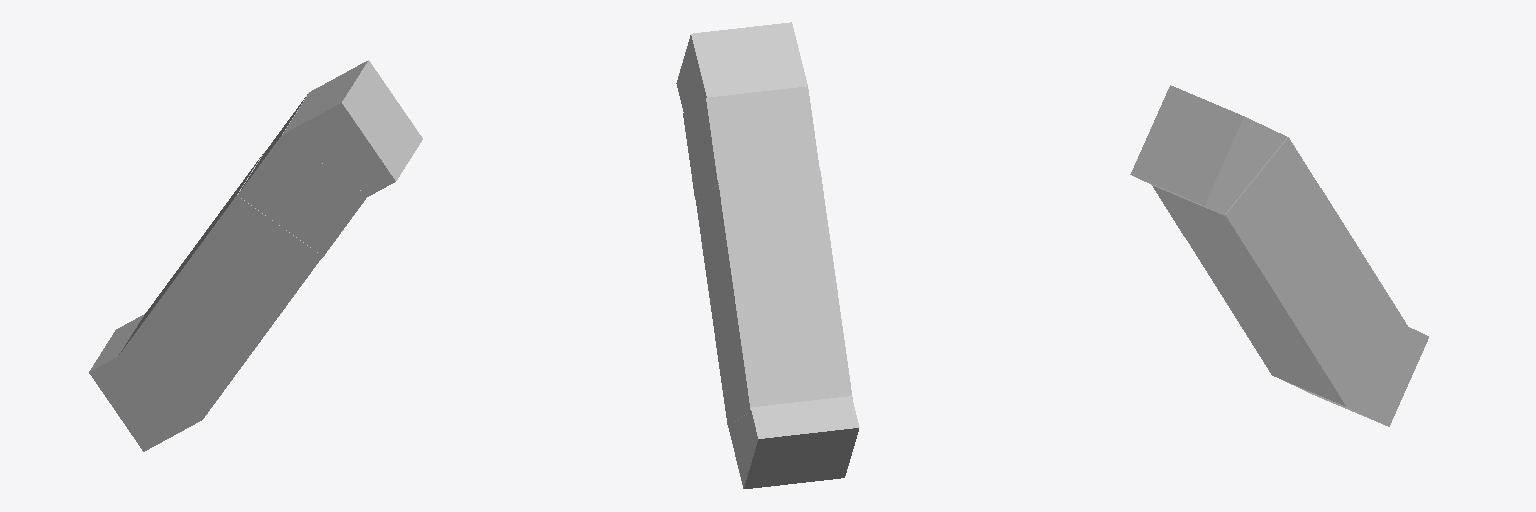
Rendered from thick_diagonal_oak_branch_67_45_a.obj.
The picture shows the model from 3 angles: view 1: azimuth 30°, elevation 25°; view 2: azimuth 150°, elevation 25°; view 3: azimuth 270°, elevation 25°; orthographic projection.
Parts seen in each view (by area): view 1: halfbeam, halfbeam.000, halfbeam.002, halfbeam.001; view 2: halfbeam, halfbeam.002, halfbeam.001, halfbeam.000; view 3: halfbeam, halfbeam.000, halfbeam.002, halfbeam.001.
Part boxes in pixels (x1,y1,x2,y2): halfbeam: (116,152,322,419); halfbeam.000: (283,60,422,196); halfbeam.002: (237,93,367,257); halfbeam.001: (89,314,201,451); halfbeam: (696,171,852,425); halfbeam.002: (683,86,819,199); halfbeam.001: (728,396,859,488); halfbeam.000: (676,22,807,111); halfbeam: (1185,188,1409,406); halfbeam.000: (1130,85,1286,215); halfbeam.002: (1152,137,1321,267); halfbeam.001: (1283,327,1428,426).
Bounding box in the file's own units: 1.06 × 1.46 × 1.06.